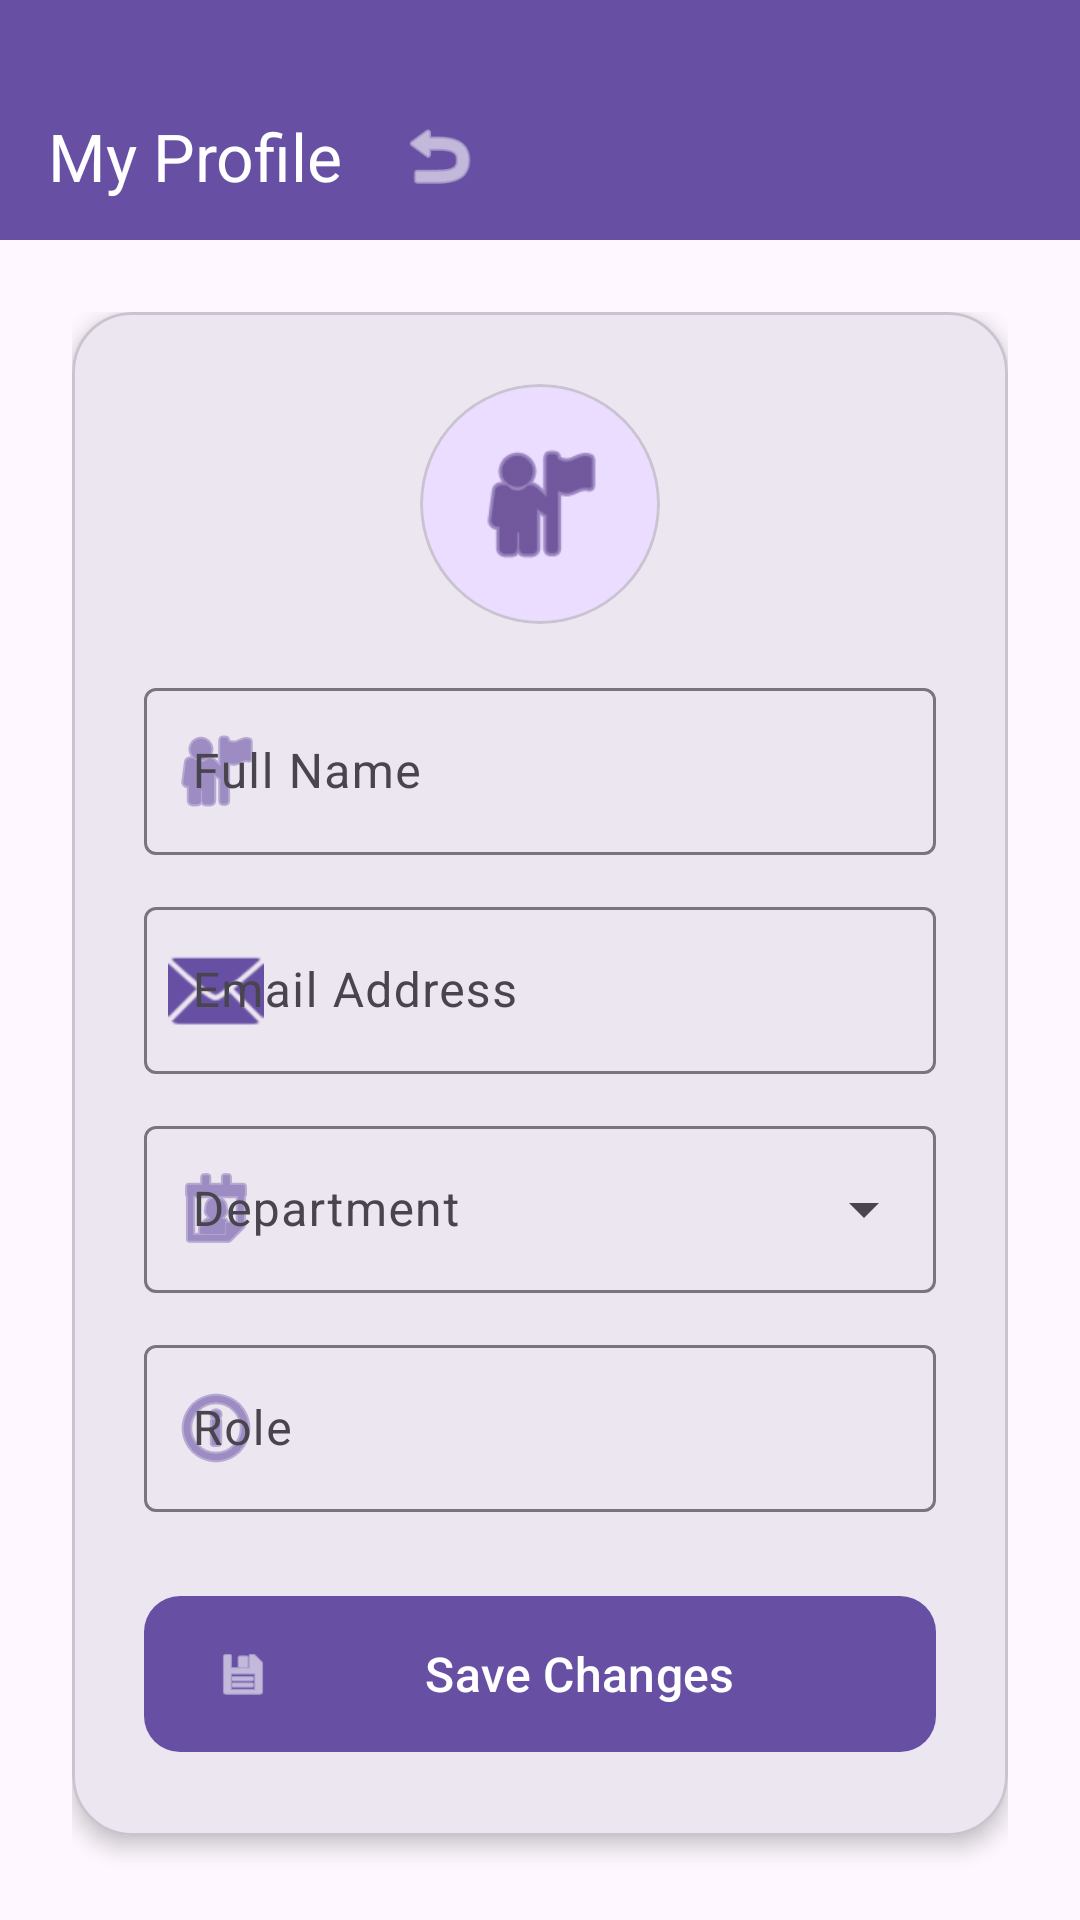

Point at icon controls on the screen. Image size 1080 × 1920, points as (x,y).
Back: (440,156)
myplaces: (541,504)
